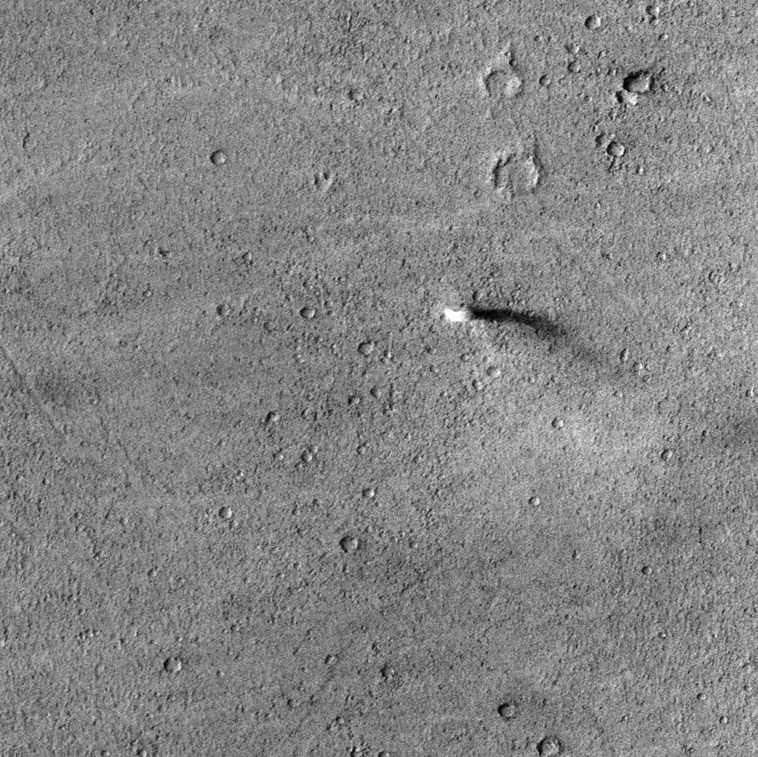dust_devil: (441, 305, 573, 351)
